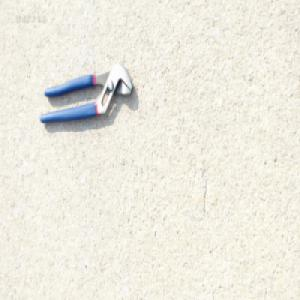Pliers: (38, 62, 133, 126)
